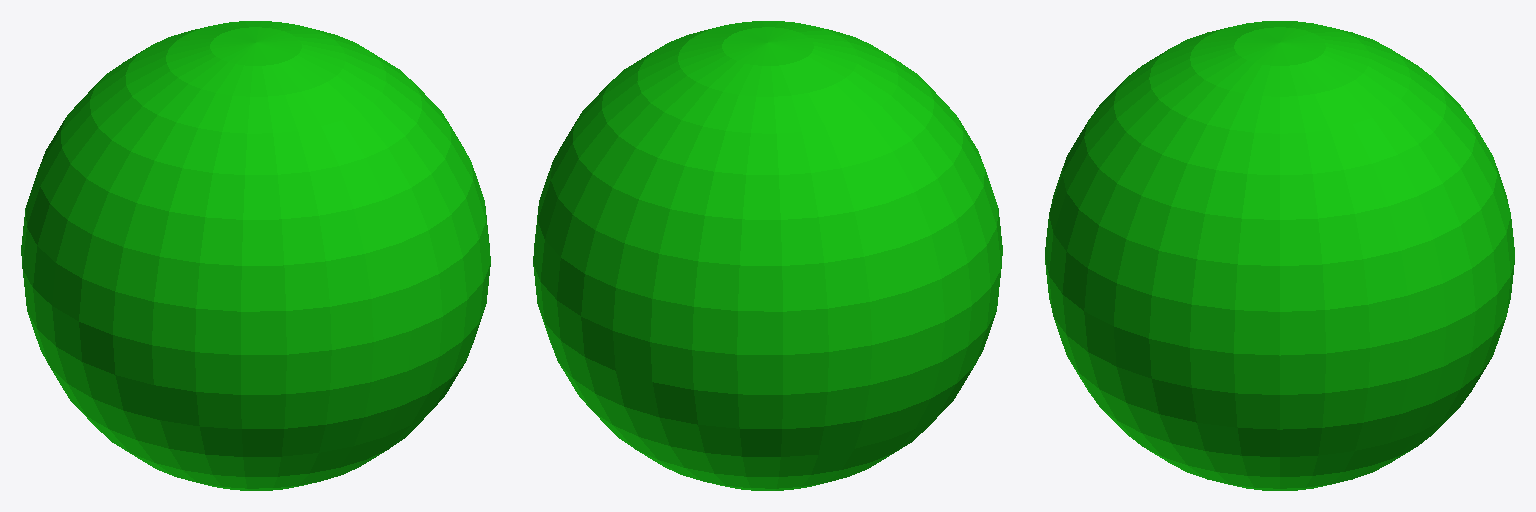
File: sphere_smooth.obj
3 views of the same model, side by side, from view 1: azimuth 30°, elevation 25°; view 2: azimuth 150°, elevation 25°; view 3: azimuth 270°, elevation 25° (orthographic).
Parts seen in each view (by area): view 1: Sphere; view 2: Sphere; view 3: Sphere.
Boxes of the visible parts, x1=… form: Sphere: x1=21, y1=21, x2=490, y2=490; Sphere: x1=533, y1=21, x2=1002, y2=490; Sphere: x1=1045, y1=21, x2=1514, y2=490.
Size of the model in its own units: 2 by 2 by 2.